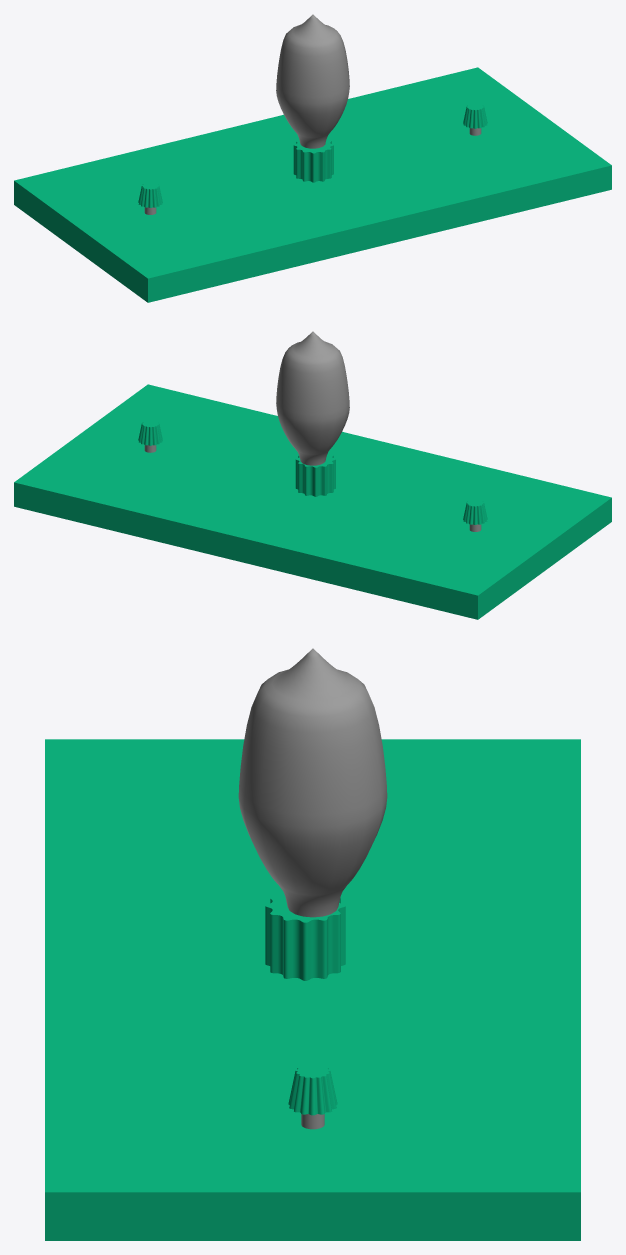
The model's file is light.FBX.
3 views of the same model, one above another, from view 1: azimuth 30°, elevation 25°; view 2: azimuth 150°, elevation 25°; view 3: azimuth 270°, elevation 25° (orthographic). The views are drawn at different scales.
Parts seen in each view (by area): view 1: Box001, Line001, Star001; view 2: Box001, Line001, Star001; view 3: Box001, Line001, Star001.
Boxes of the visible parts, x1=… form: Box001: x1=14, y1=67, x2=611, y2=302; Line001: x1=276, y1=14, x2=349, y2=148; Star001: x1=293, y1=140, x2=333, y2=182; Box001: x1=14, y1=384, x2=611, y2=619; Line001: x1=276, y1=331, x2=349, y2=465; Star001: x1=295, y1=454, x2=335, y2=496; Box001: x1=45, y1=739, x2=580, y2=1240; Line001: x1=238, y1=648, x2=387, y2=917; Star001: x1=265, y1=892, x2=345, y2=980.
Bounding box in the file's own units: 100 × 37.72 × 50.
